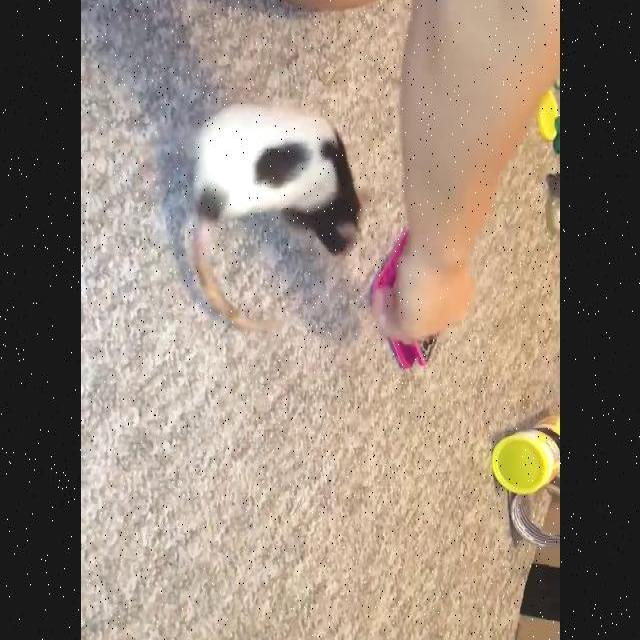rat: (186, 101, 370, 260)
